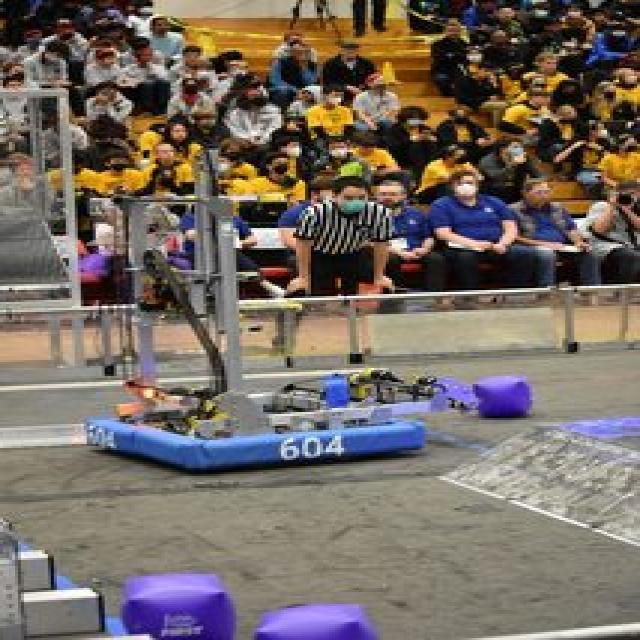robot: (74, 139, 498, 551)
